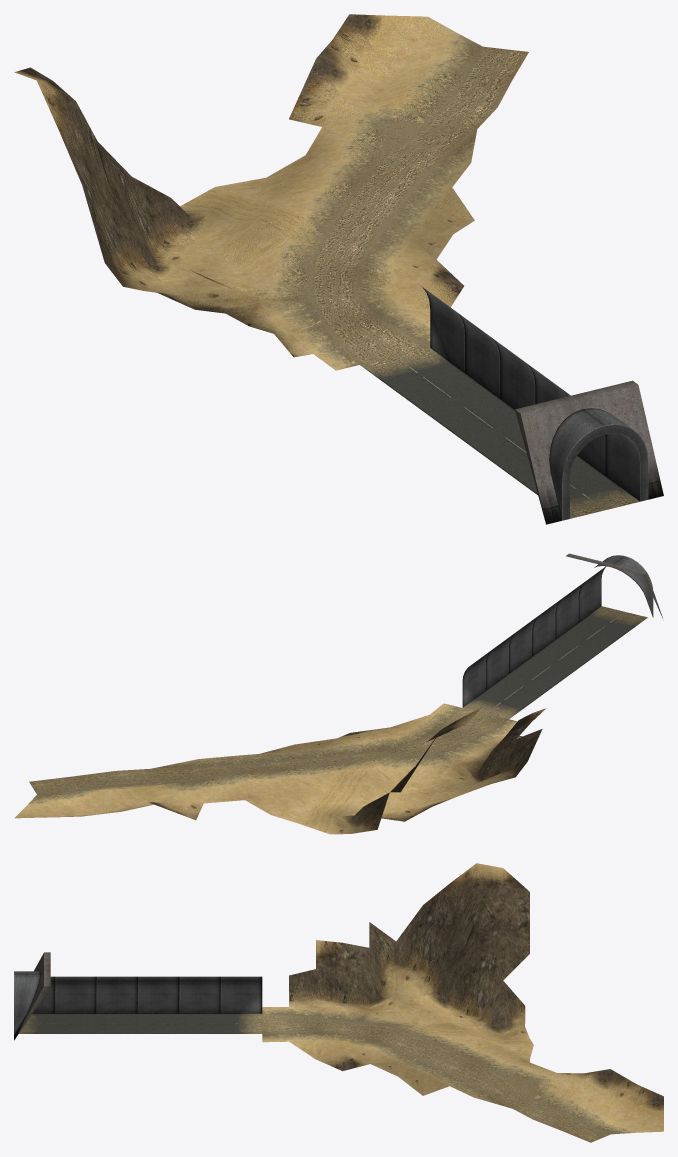
The model's file is Mis4_Tunnel.glb.
3 views of the same model, one above another, from view 1: azimuth 30°, elevation 25°; view 2: azimuth 150°, elevation 25°; view 3: azimuth 270°, elevation 25° (orthographic). The views are drawn at different scales.
Parts seen in each view (by area): view 1: MIS4_TUNNEL; view 2: MIS4_TUNNEL; view 3: MIS4_TUNNEL.
Part boxes in pixels (x1=…): MIS4_TUNNEL: x1=14, y1=14, x2=663, y2=524; MIS4_TUNNEL: x1=14, y1=553, x2=662, y2=834; MIS4_TUNNEL: x1=14, y1=863, x2=663, y2=1142.
Bounding box in the file's own units: 60 × 19.99 × 97.09.
Materials: 30 (30 with a texture image).
